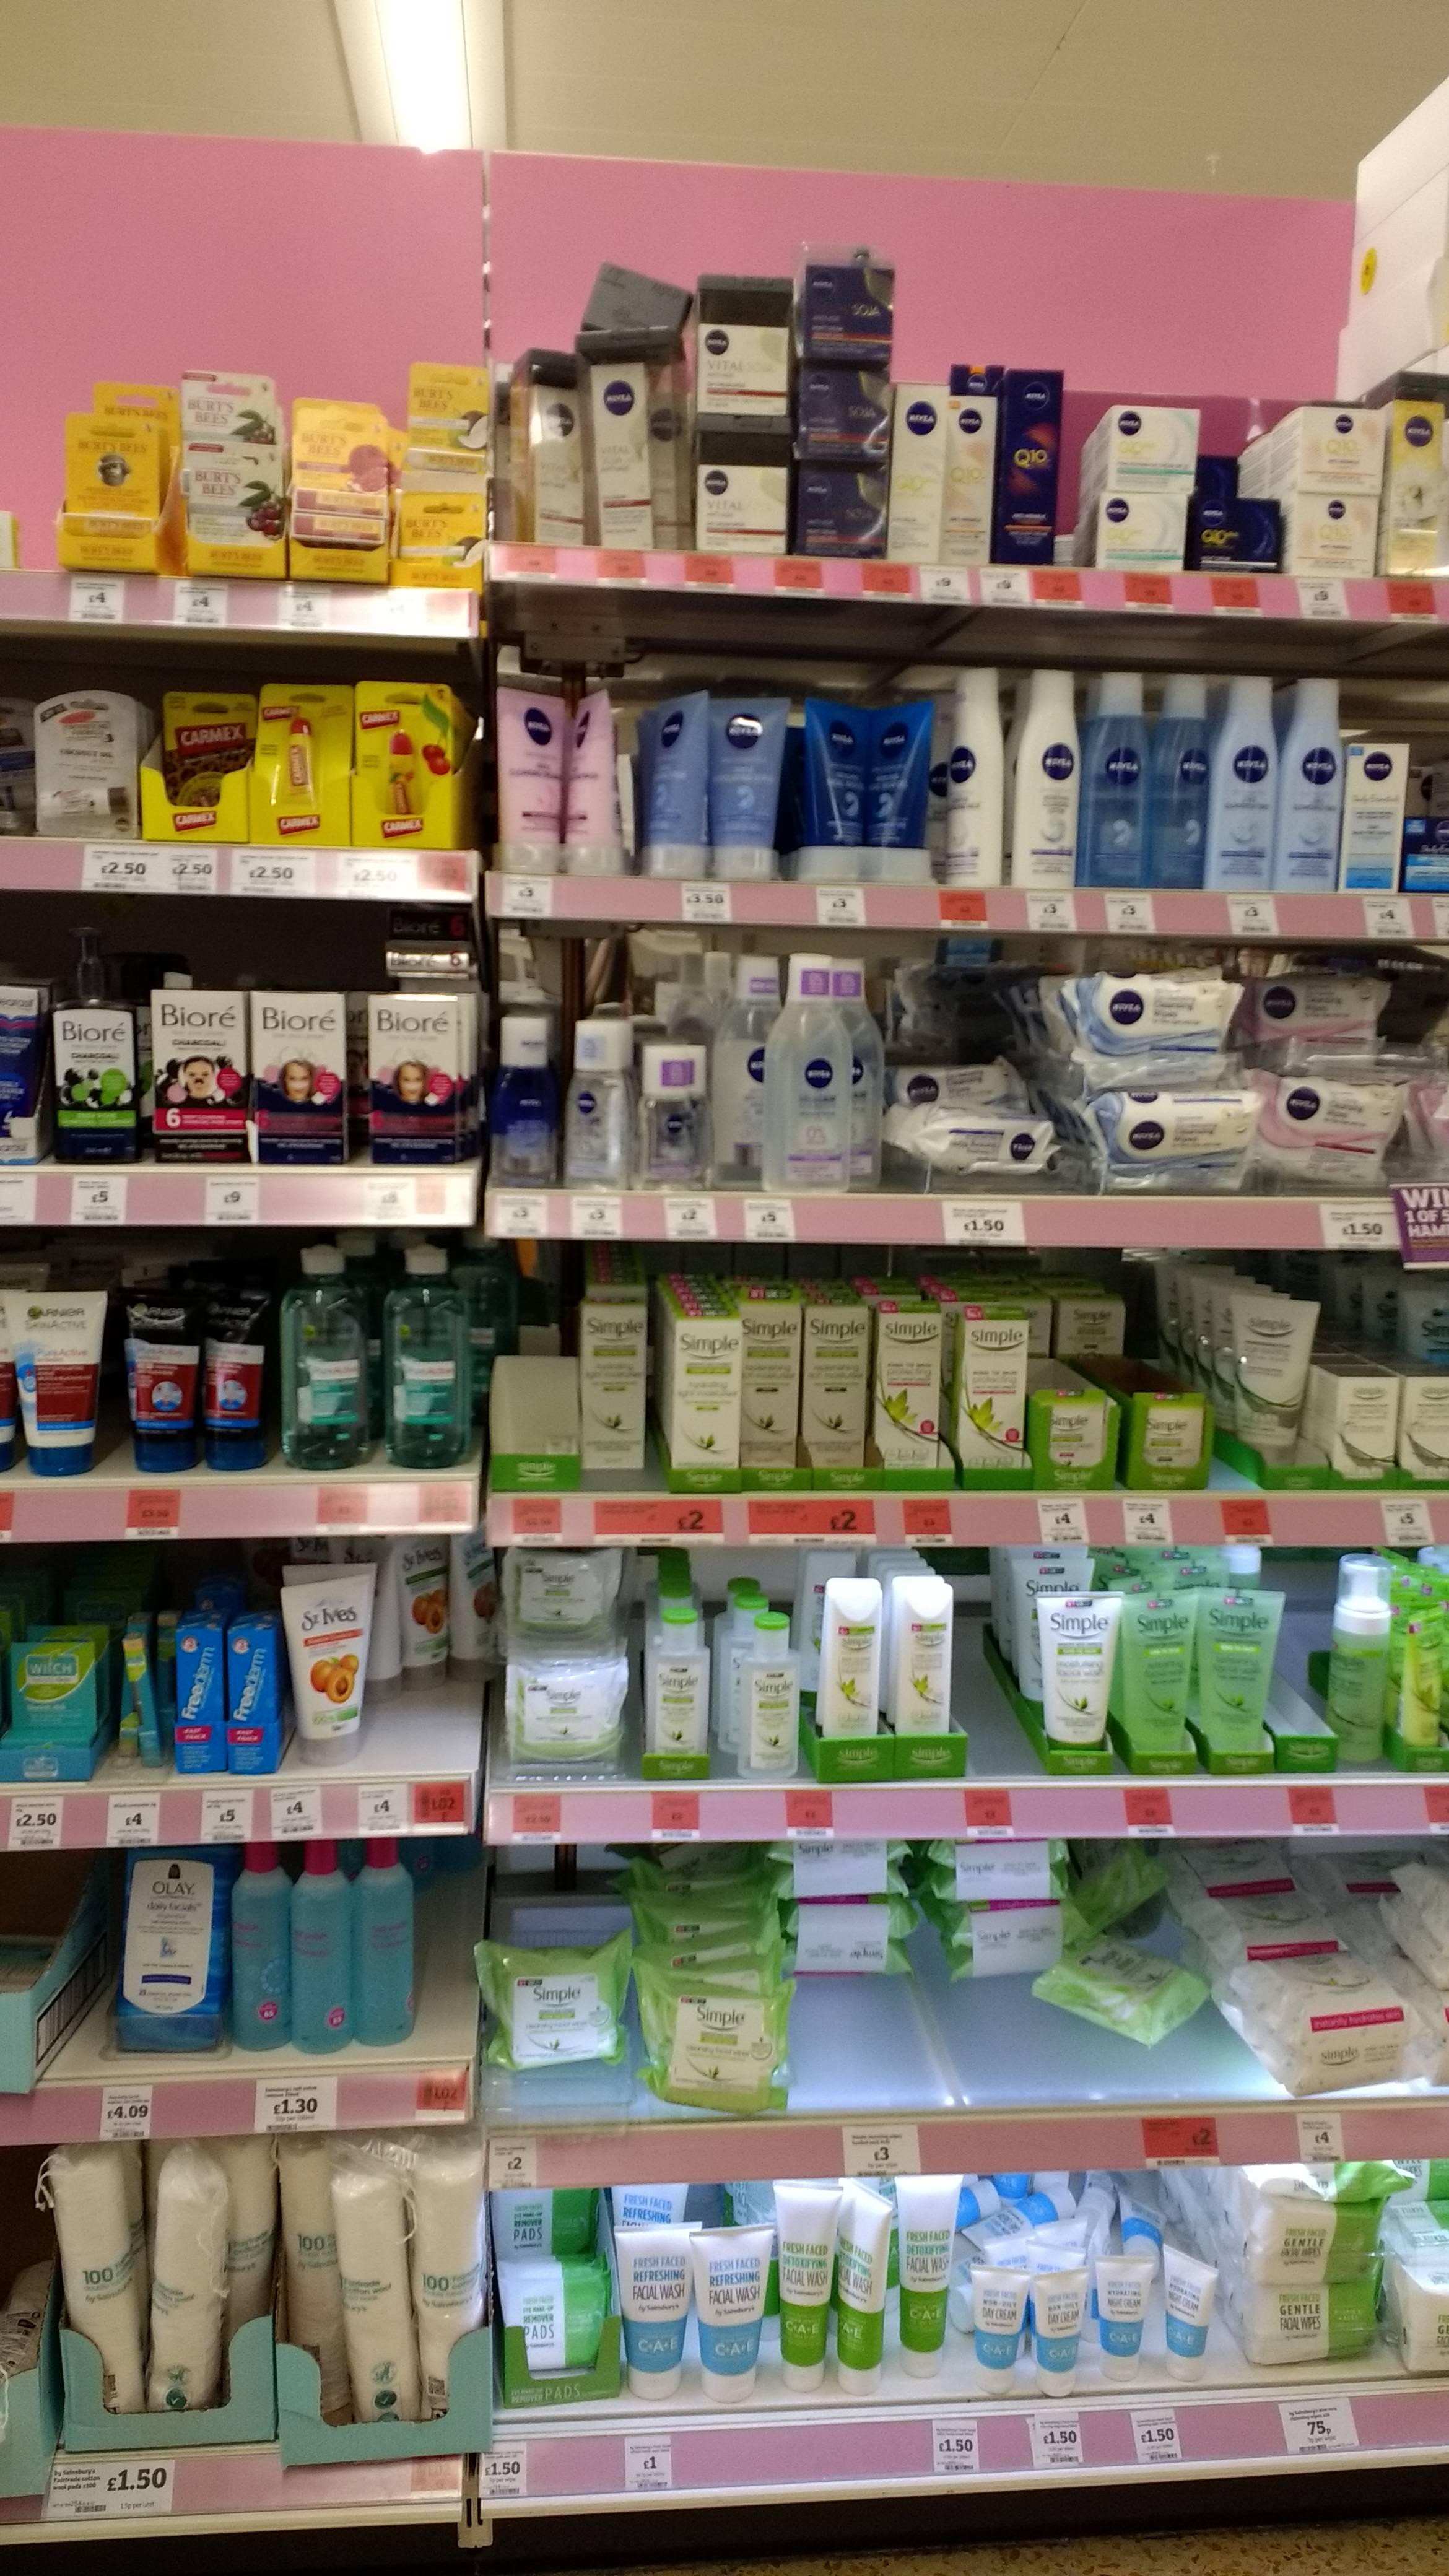misalignment: (1042, 1907, 1207, 2056), (368, 1534, 495, 1690), (510, 340, 586, 550), (943, 660, 1005, 888), (568, 248, 690, 359), (911, 1085, 1053, 1178), (561, 686, 623, 879), (111, 1615, 172, 1764)
